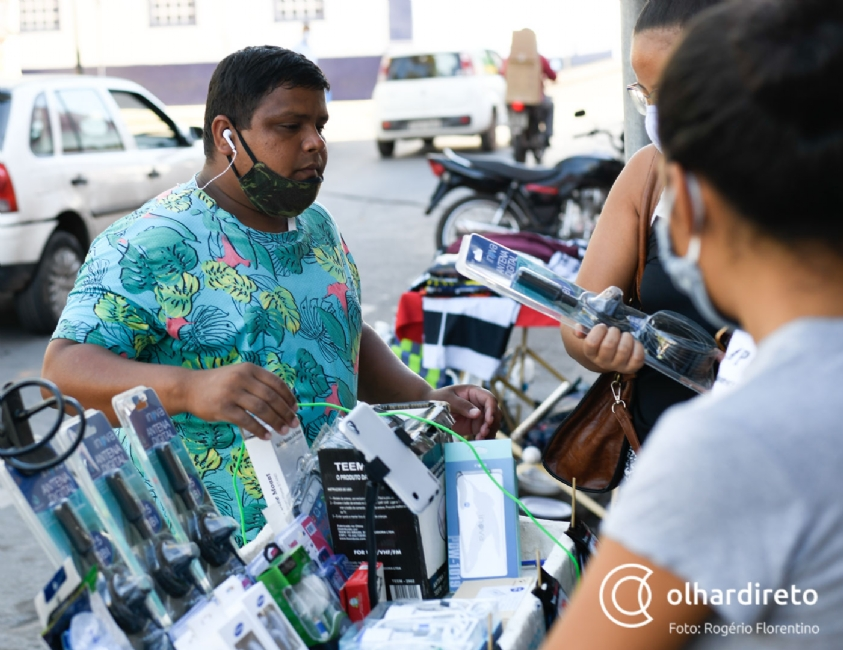mask_weared_incorrect: (202, 90, 333, 220)
